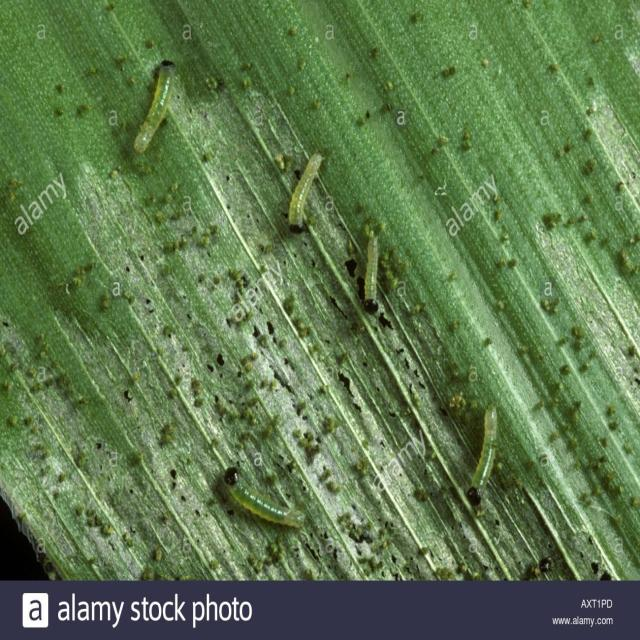army worm: (220, 467, 312, 533), (129, 53, 174, 160), (468, 403, 508, 504), (288, 144, 326, 238), (360, 228, 390, 314)
